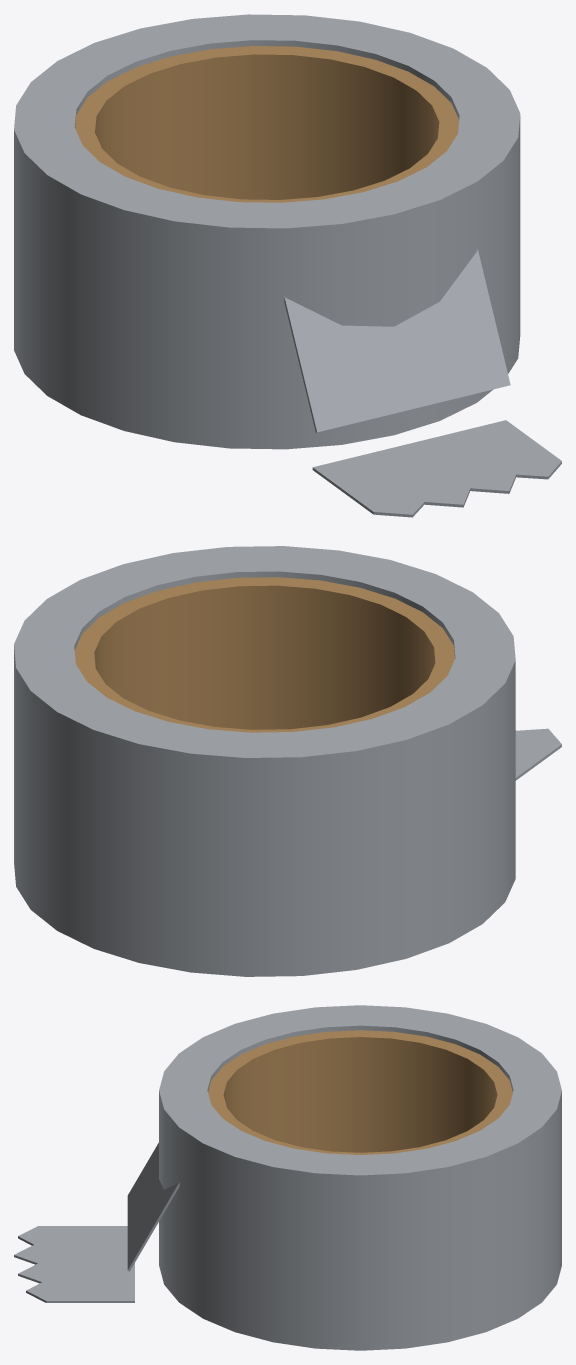
Rendered from duct_tape.glb.
3 renders of one model, top to bottom at view 1: azimuth 30°, elevation 25°; view 2: azimuth 150°, elevation 25°; view 3: azimuth 270°, elevation 25°, orthographic. The views are drawn at different scales.
Parts seen in each view (by area): view 1: duct_tape; view 2: duct_tape; view 3: duct_tape.
Boxes of the visible parts, x1,y1,x2,y2 form: duct_tape: [14, 14, 561, 517]; duct_tape: [14, 546, 561, 976]; duct_tape: [14, 1005, 561, 1350].
Bounding box in the file's own units: 0.0956 × 0.0459 × 0.13.
